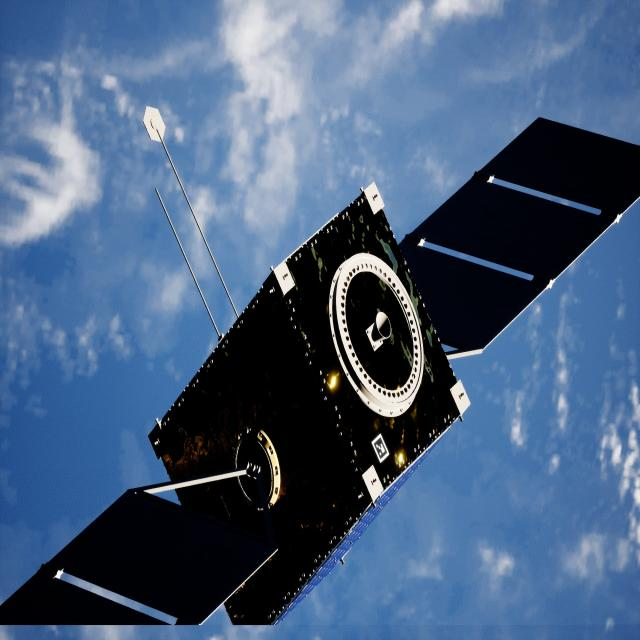medium_debris: (0, 117, 640, 630)
